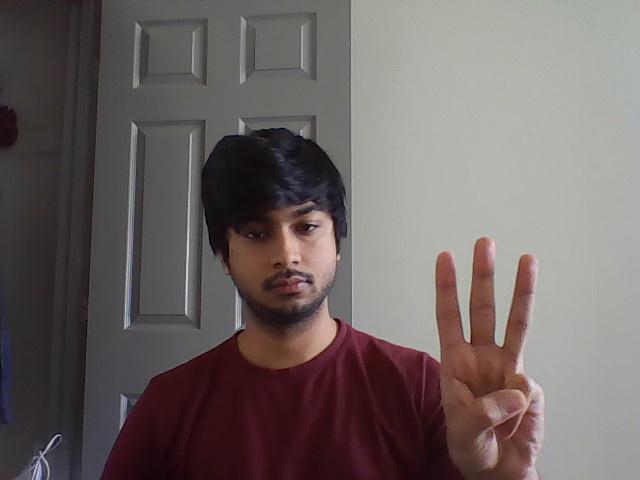three: (423, 220, 545, 382)
